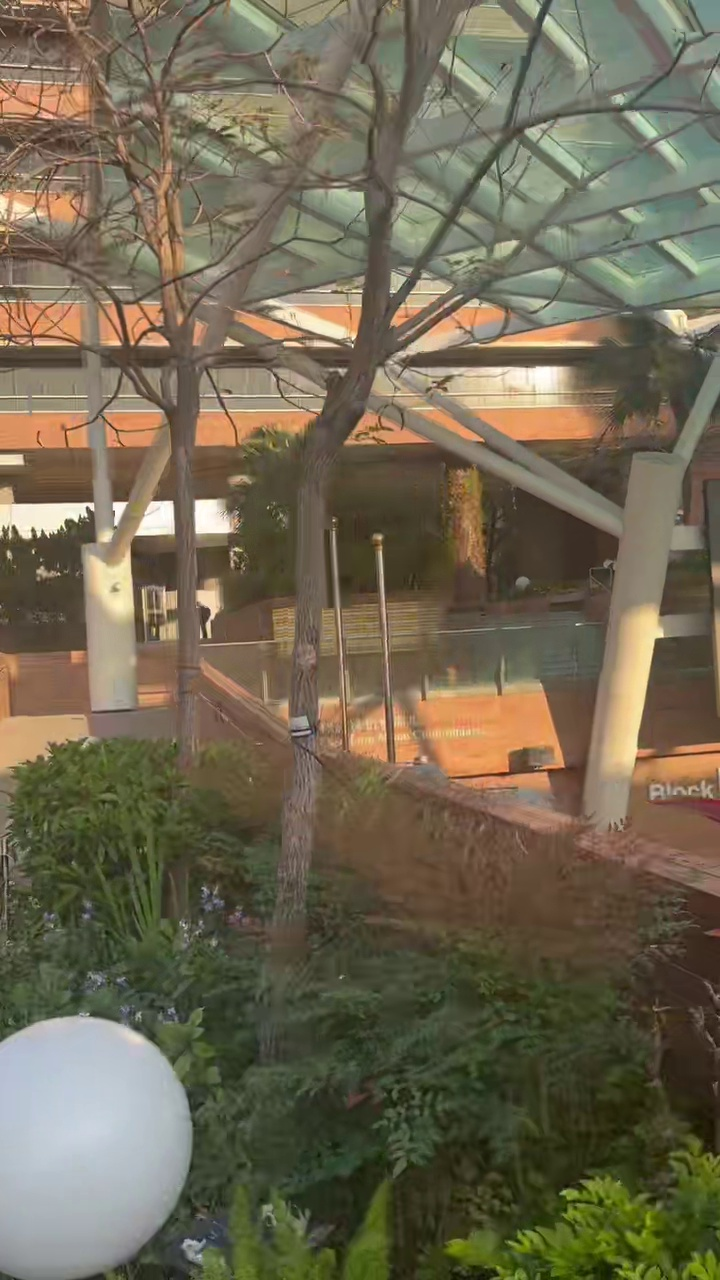Tabebuia chrysantha: (271, 0, 517, 967)
